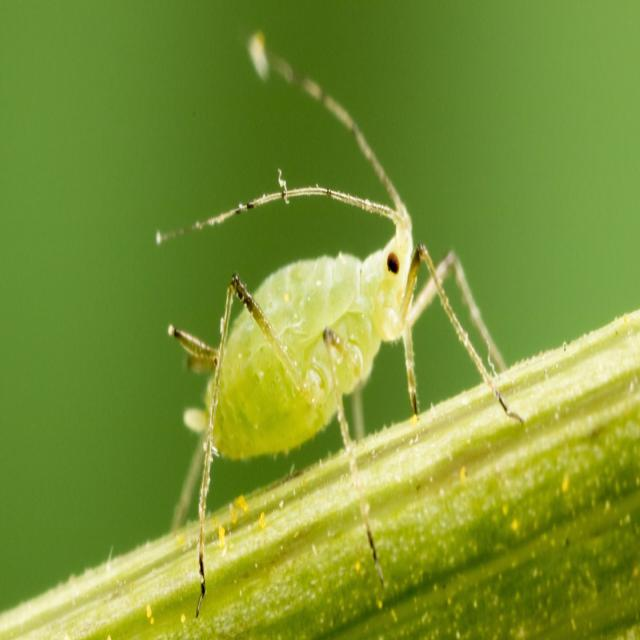Aphid-Grown-: (135, 132, 534, 580)
